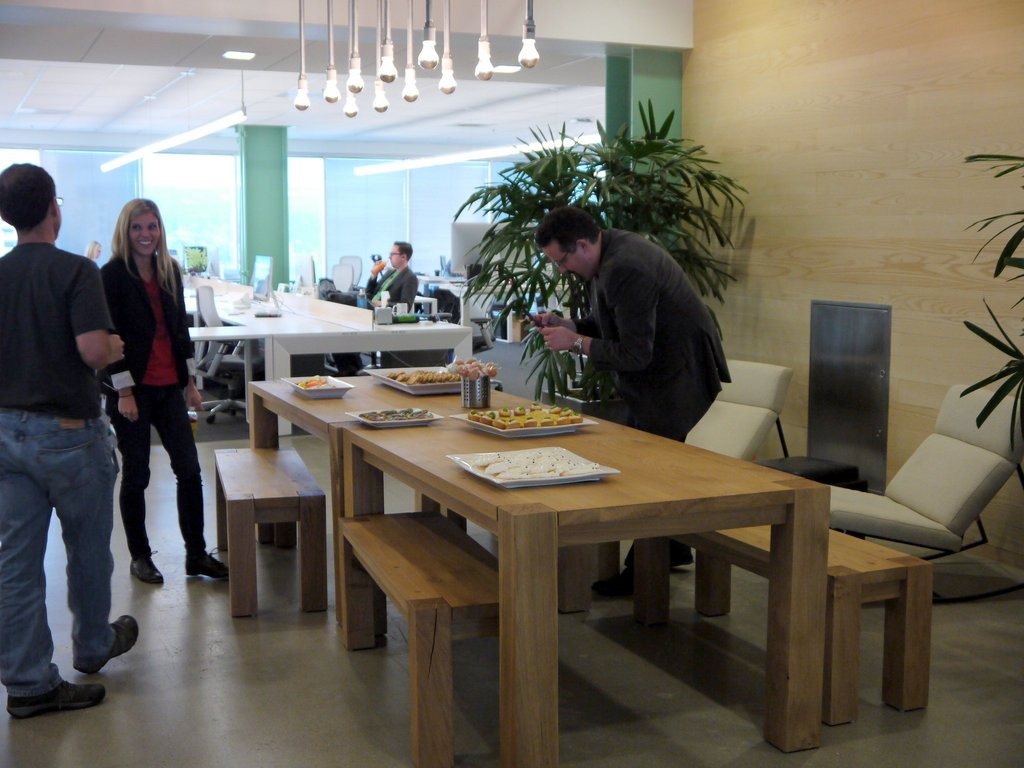Footwear: (74, 611, 137, 671), (6, 682, 105, 719), (592, 563, 644, 600), (186, 543, 228, 580), (132, 550, 165, 584), (670, 540, 694, 563)
